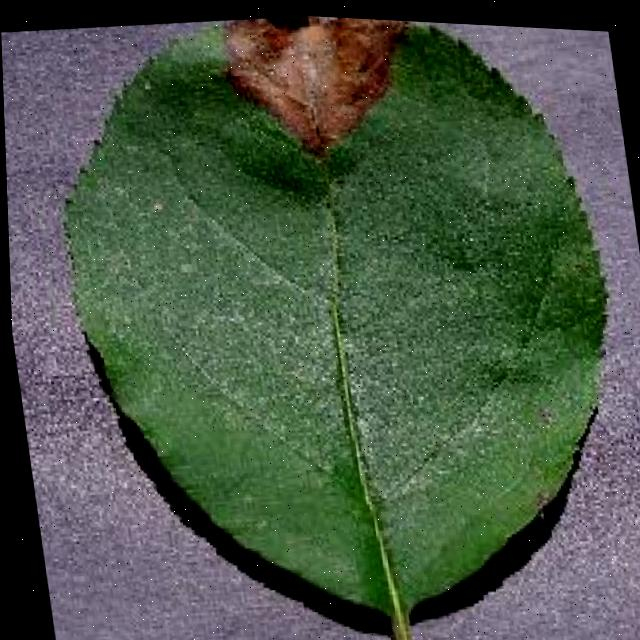black_rot: (204, 11, 436, 168)
